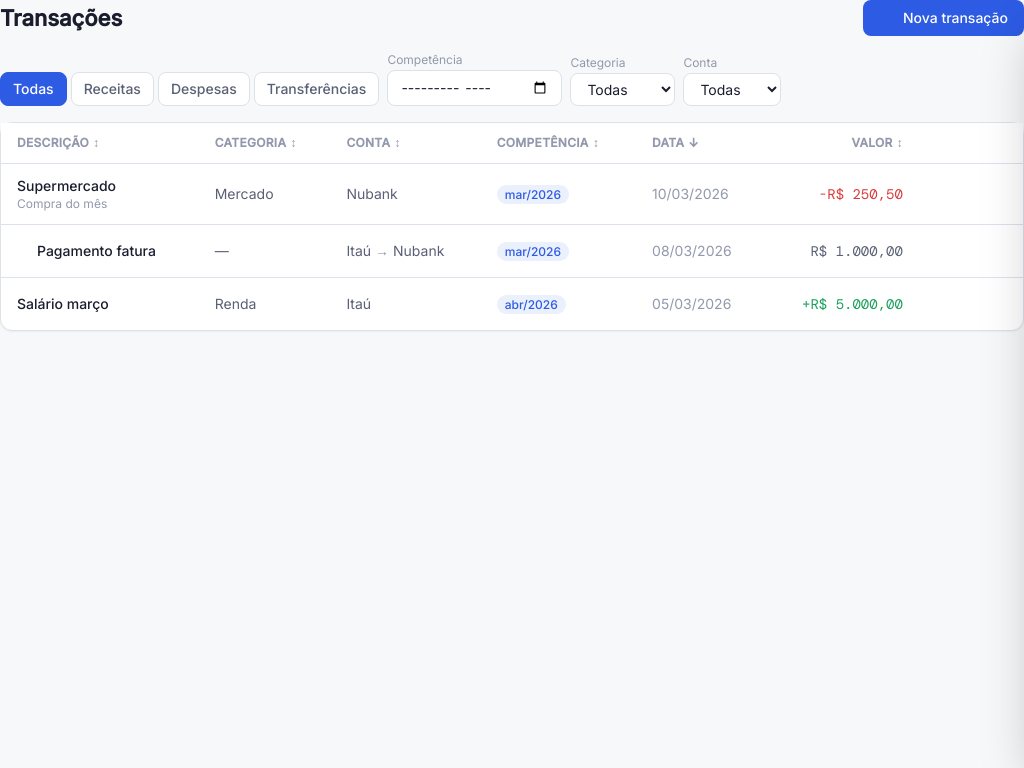
Test case: Transacoes › nova transação › valida a descrição antes de enviar
Step 1. Click the button "Nova transação" → (944, 18), box [863,0,1023,36]
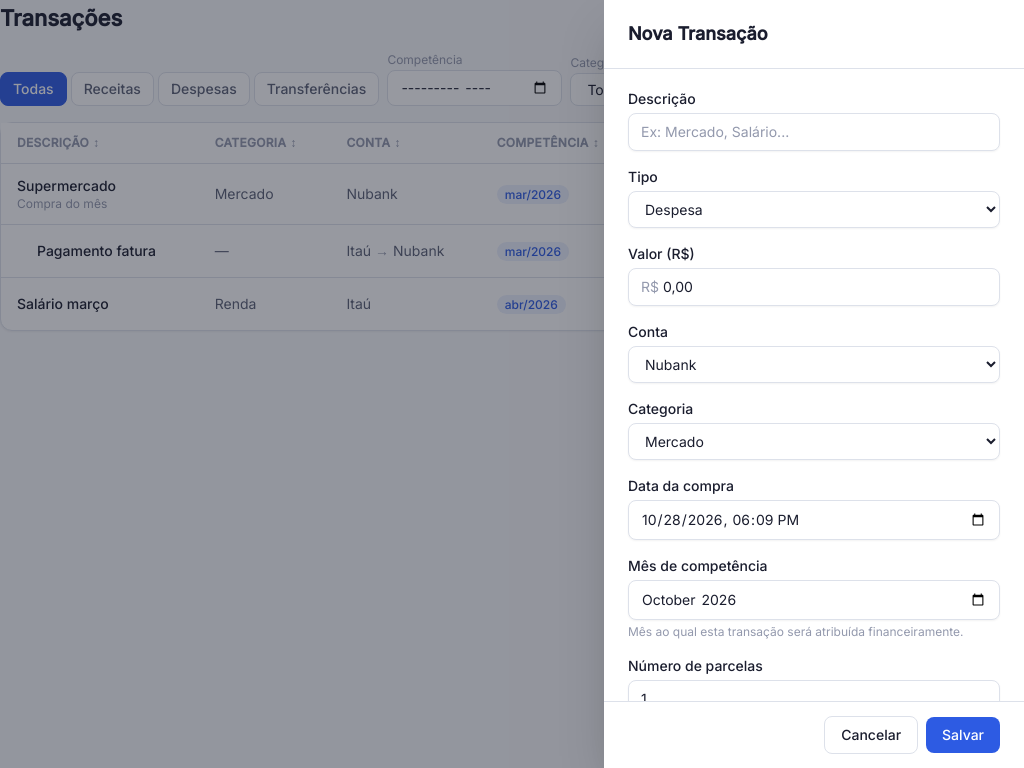
Step 2. Click the button "Salvar" → (963, 735), box [926,717,1000,753]
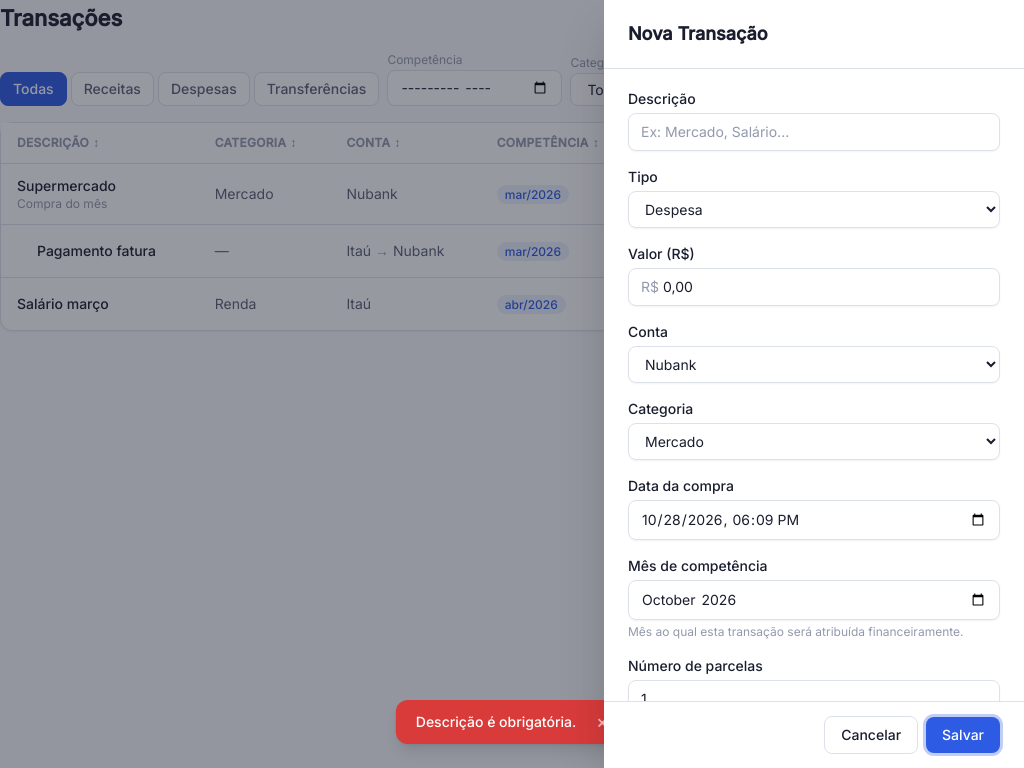
Expected: the text "Descrição é obrigatória." is shown, [416,712,576,732]
